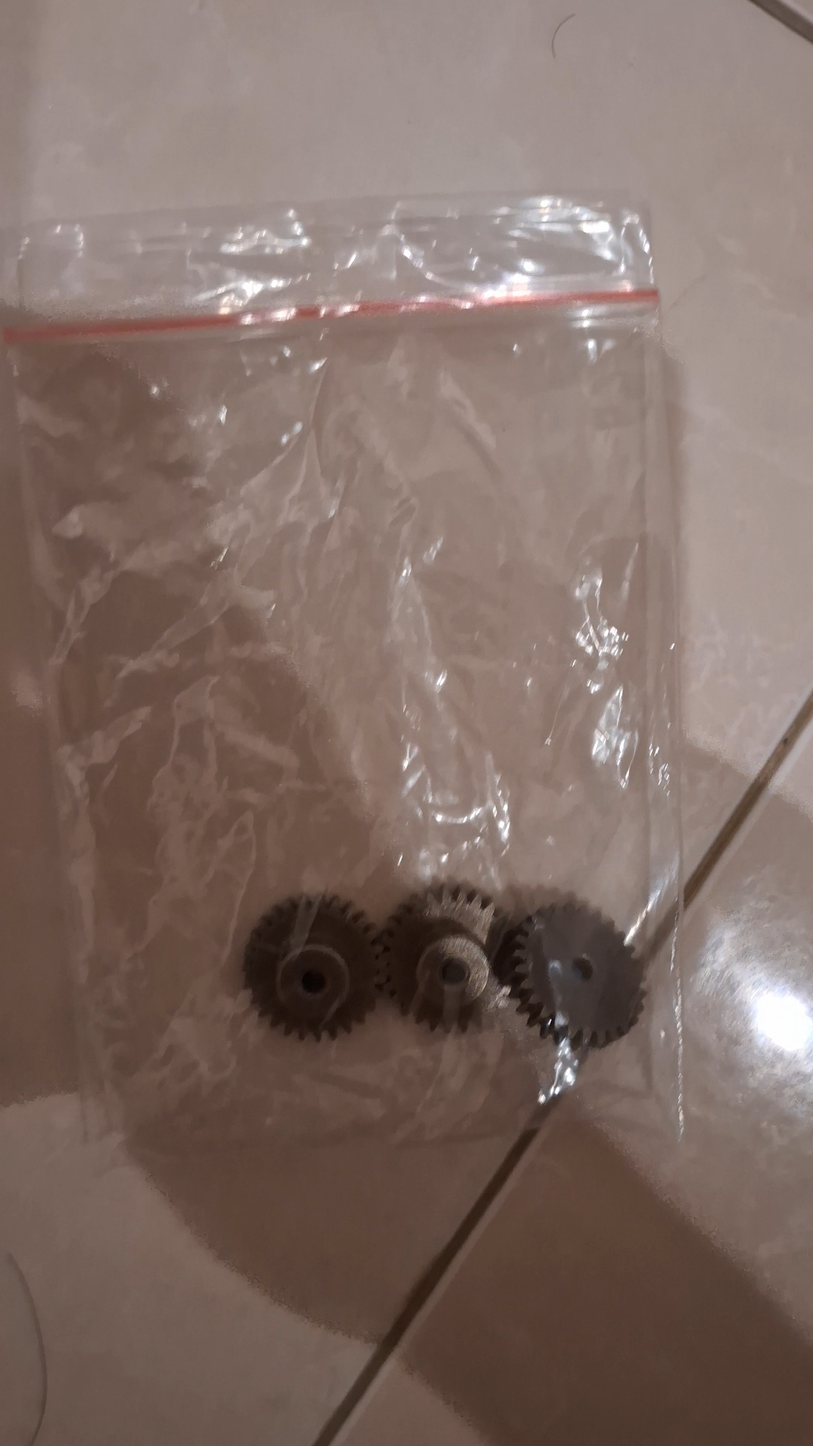spur gear: (490, 894, 648, 1052), (238, 891, 383, 1042), (369, 882, 507, 1035)
